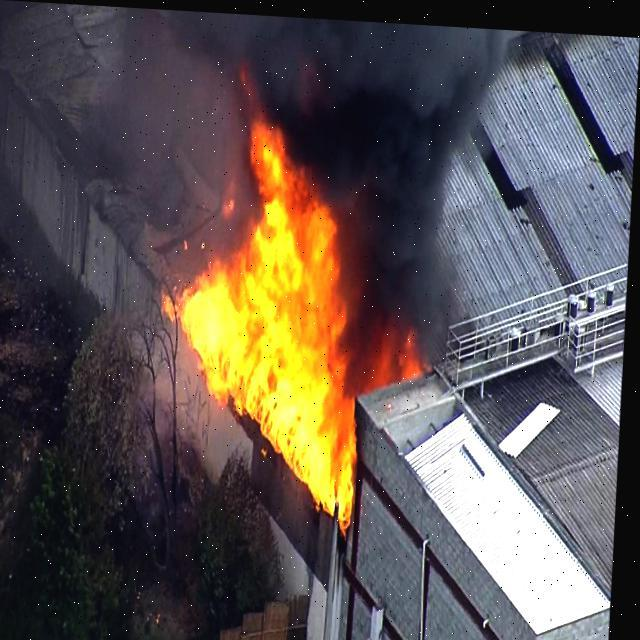Fire: (156, 103, 382, 530), (378, 310, 428, 383)
